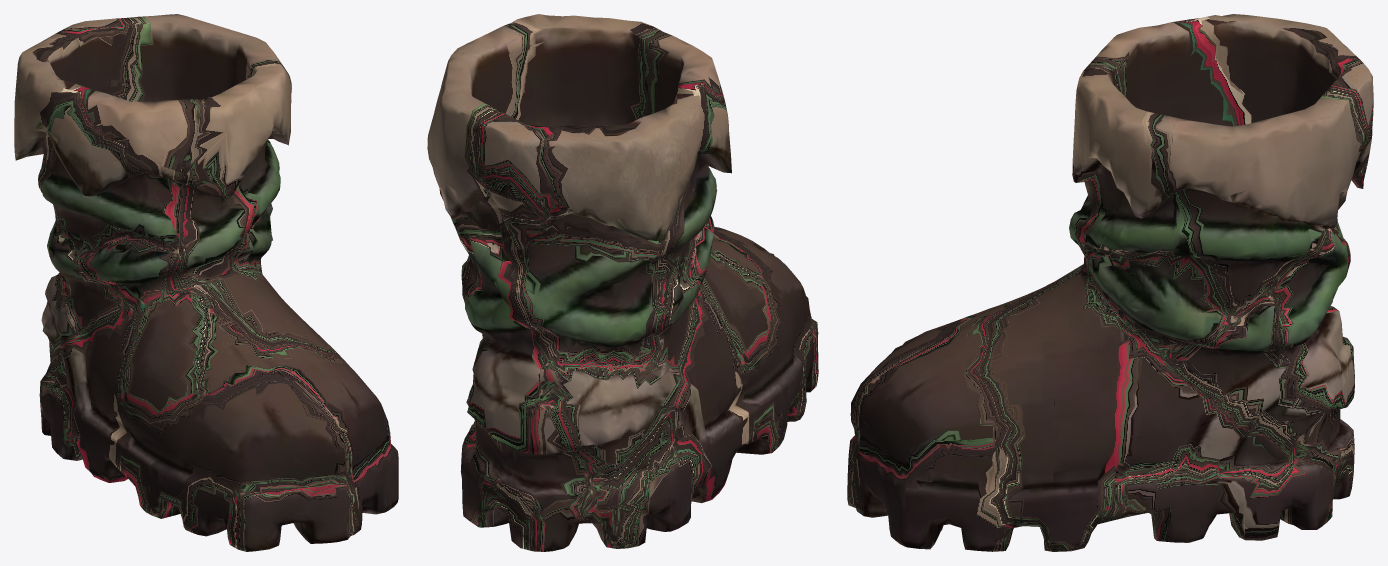
The model's file is totem_boot_B.glb.
The picture shows the model from 3 angles, left to right: view 1: azimuth 30°, elevation 25°; view 2: azimuth 150°, elevation 25°; view 3: azimuth 270°, elevation 25°; orthographic projection. The views are drawn at different scales.
Size of the model in its own units: 0.1767 by 0.2751 by 0.3044.
1 material, 1 textured.
